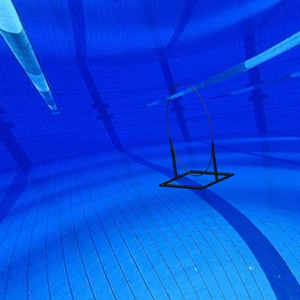circle: (157, 82, 237, 193)
